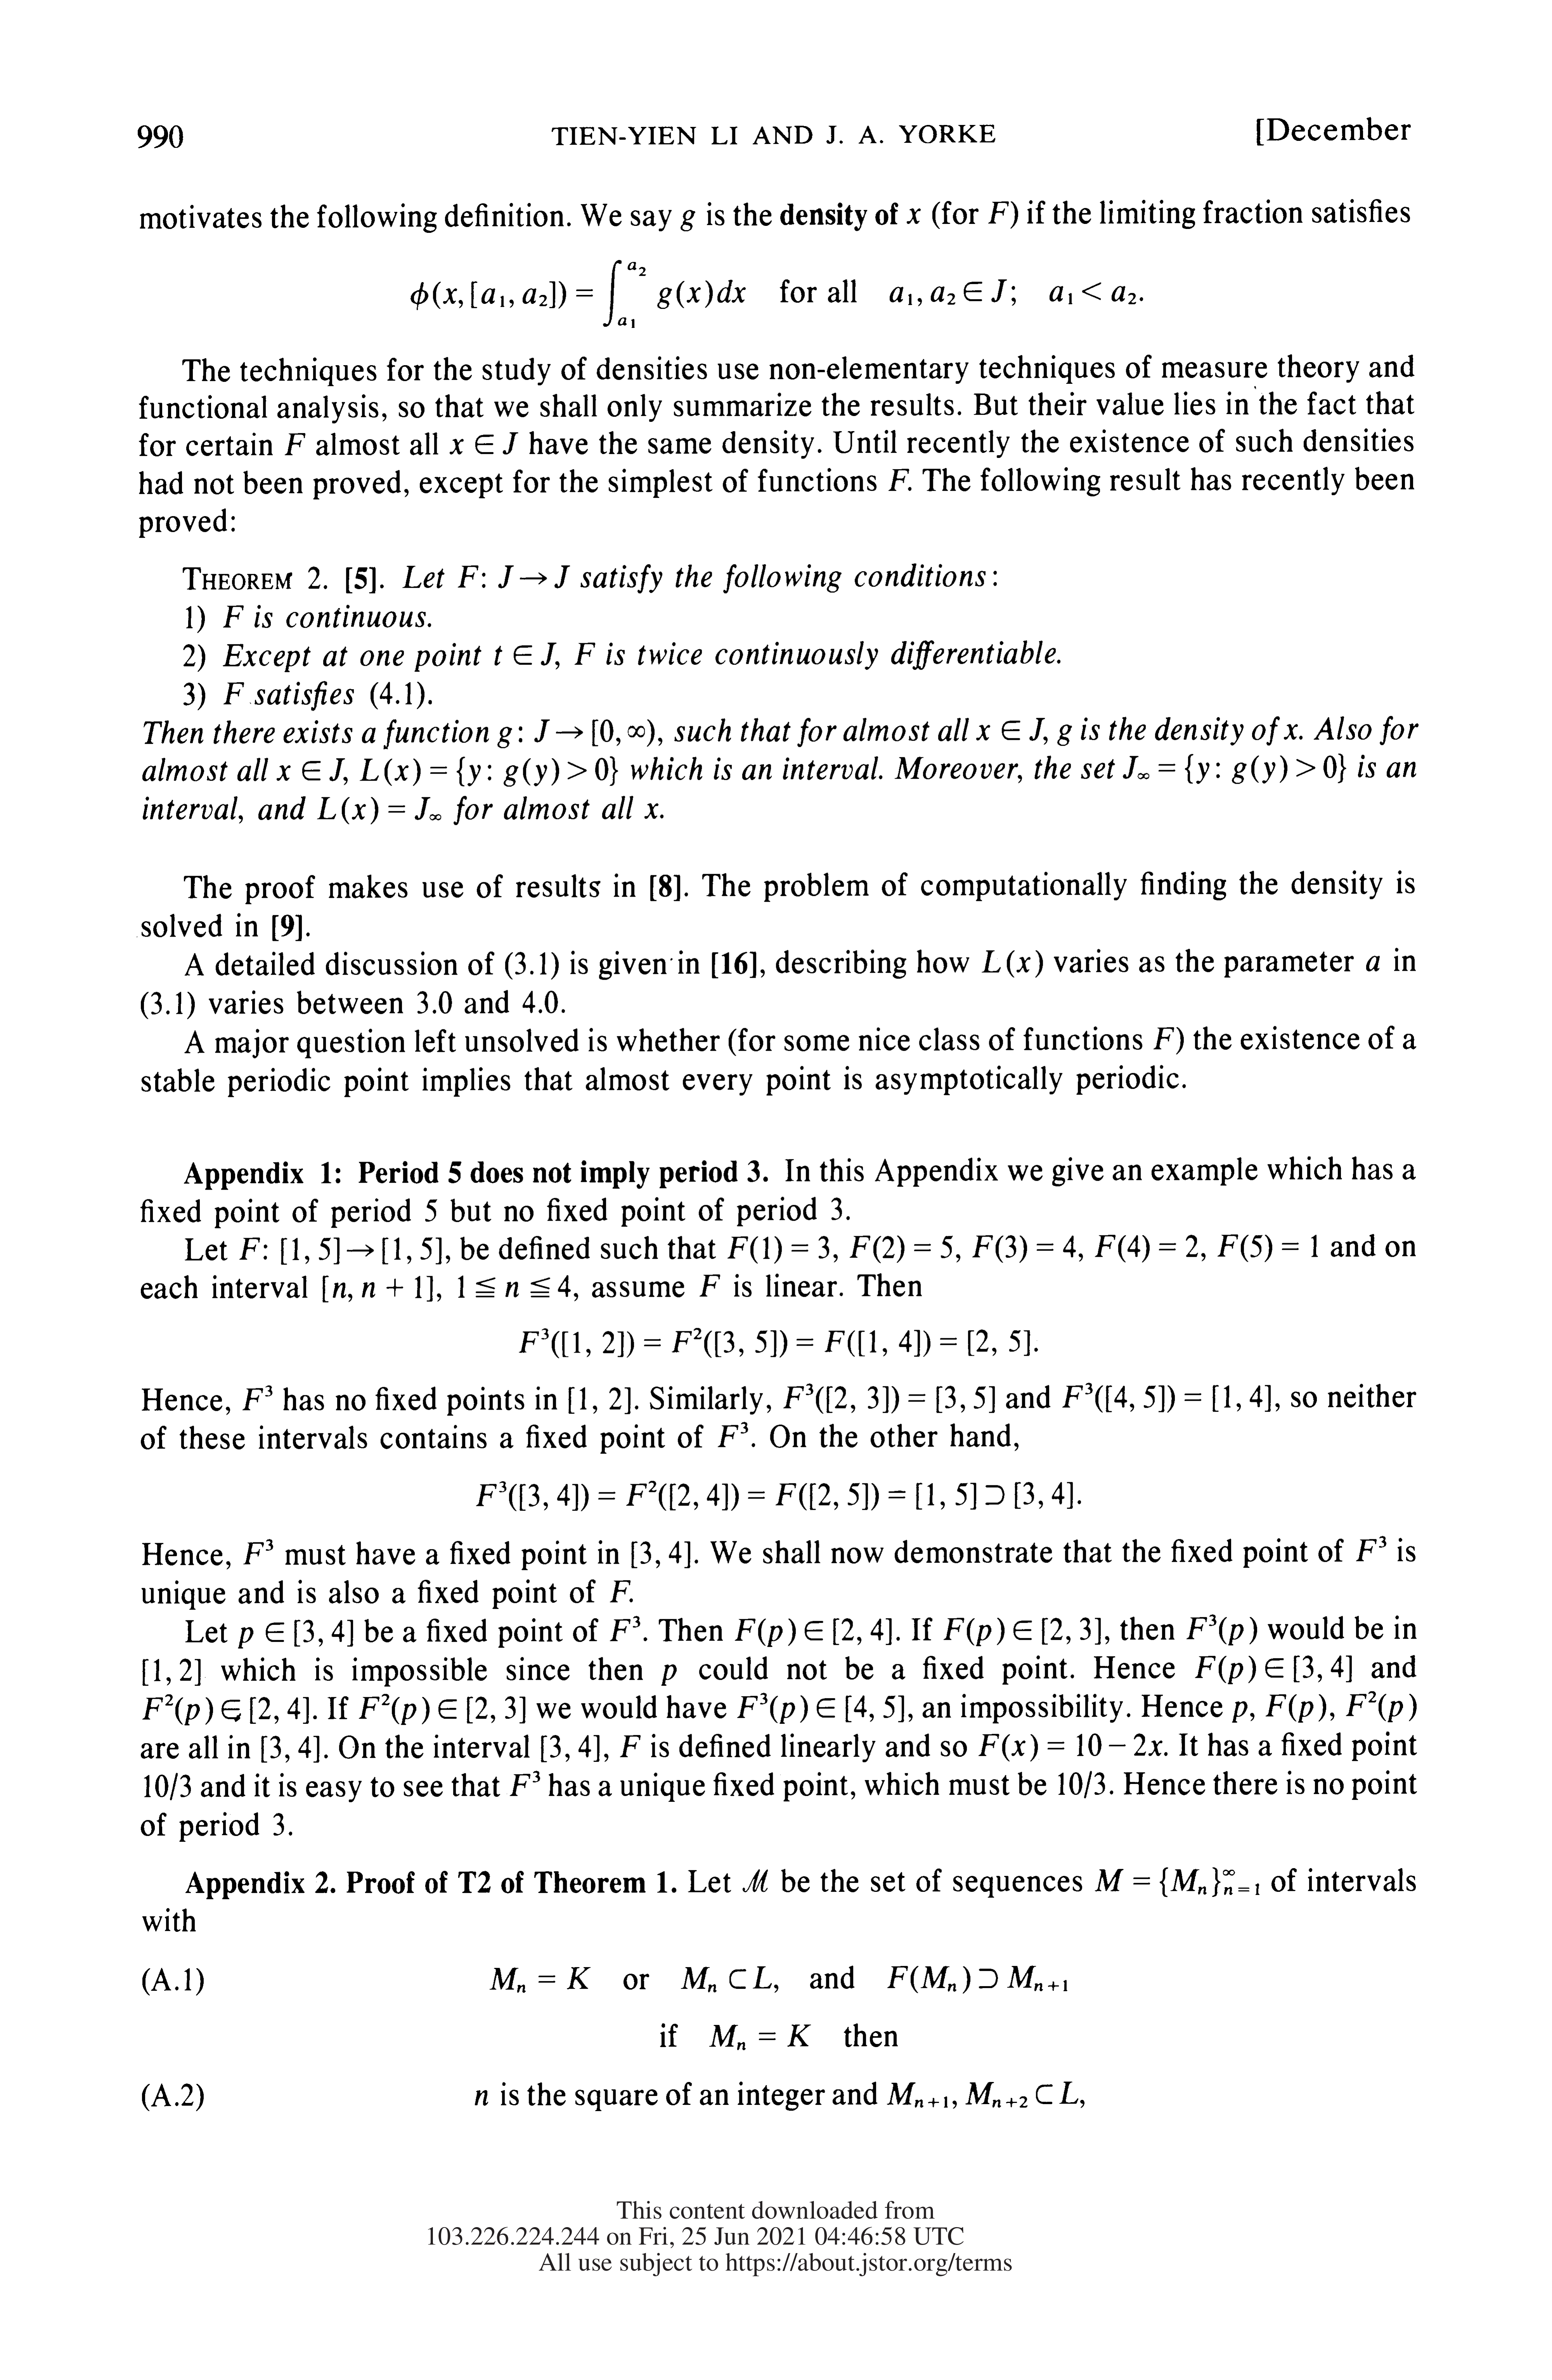maths: (411, 260, 746, 328), (475, 1481, 1080, 1511), (518, 1329, 1037, 1358), (359, 756, 617, 786), (1124, 753, 1346, 784), (784, 1384, 995, 1414), (1063, 1383, 1271, 1412), (239, 1237, 440, 1265), (737, 1693, 903, 1724), (978, 1733, 1162, 1761), (888, 1965, 1066, 1993), (359, 1695, 525, 1724), (1094, 1868, 1259, 1898), (943, 1617, 1101, 1646), (1195, 1655, 1351, 1684), (735, 1618, 891, 1646), (498, 720, 645, 748), (142, 1695, 271, 1724), (317, 796, 440, 824), (323, 1275, 440, 1303), (238, 1620, 352, 1648), (850, 1235, 961, 1263), (1094, 1235, 1205, 1263), (966, 2082, 1084, 2108), (973, 1235, 1082, 1263), (890, 279, 1006, 305), (727, 1237, 838, 1263), (709, 2024, 812, 2050), (976, 718, 1072, 746), (1217, 1235, 1318, 1261), (489, 1967, 590, 1993), (458, 1275, 571, 1298), (458, 566, 569, 588), (1346, 1691, 1417, 1723), (681, 1967, 772, 1991), (1186, 1615, 1257, 1644), (1049, 283, 1143, 304), (276, 758, 347, 784), (888, 2082, 957, 2108), (494, 642, 558, 670), (1266, 1695, 1327, 1723), (631, 1540, 690, 1568), (142, 1658, 199, 1686), (541, 1735, 598, 1762), (569, 1388, 629, 1414), (449, 432, 518, 454), (262, 1736, 319, 1762), (981, 951, 1030, 977), (243, 1539, 272, 1565), (243, 1386, 272, 1410), (718, 1422, 747, 1447), (1356, 1537, 1386, 1561), (610, 1617, 640, 1641), (510, 1771, 539, 1795), (742, 1870, 766, 1893), (610, 1580, 633, 1603), (988, 201, 1009, 224), (574, 642, 595, 664), (1153, 1027, 1174, 1049), (1231, 1702, 1254, 1723), (619, 1735, 640, 1757), (284, 434, 305, 454), (699, 1275, 720, 1296), (224, 682, 243, 704), (224, 605, 243, 626), (680, 210, 695, 231), (661, 1665, 676, 1686), (827, 125, 843, 144), (645, 803, 662, 819), (907, 208, 921, 224), (1366, 956, 1379, 971), (475, 2090, 487, 2106), (303, 1697, 309, 1724)
